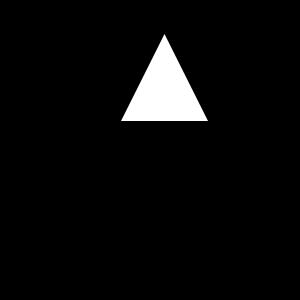triangle: (121, 34, 208, 121)
